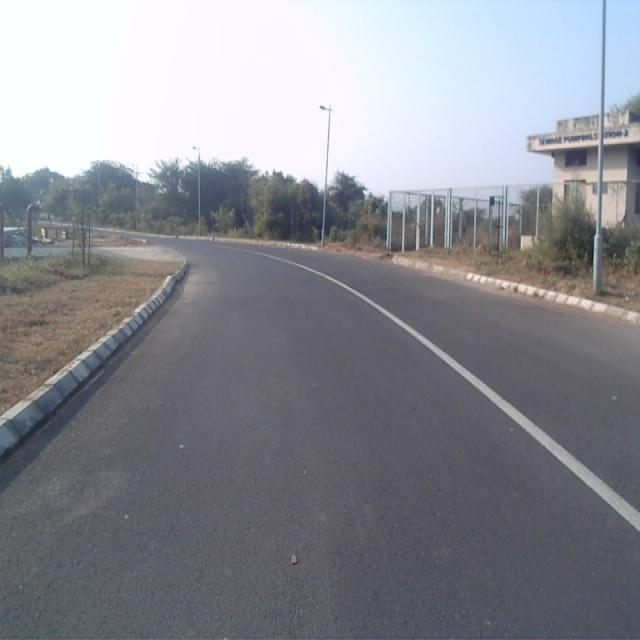lane: (1, 244, 640, 640)
